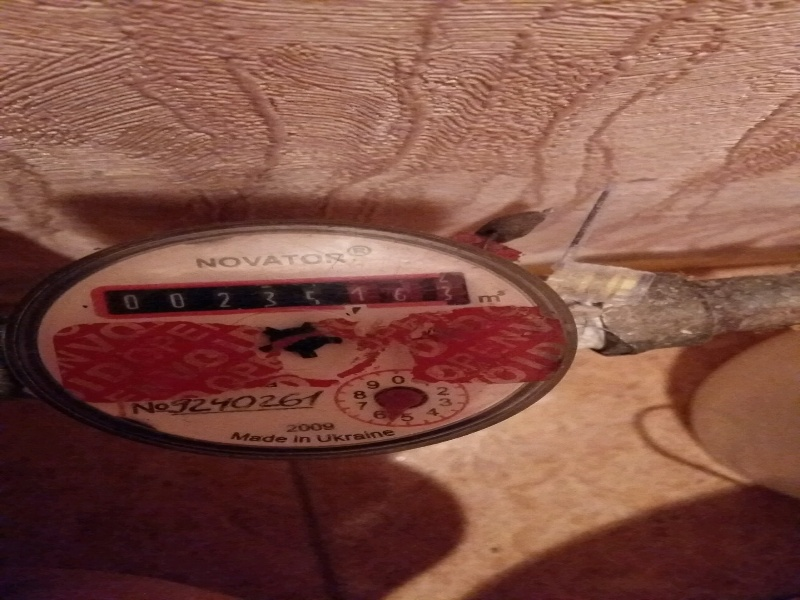dial: (97, 278, 461, 305)
